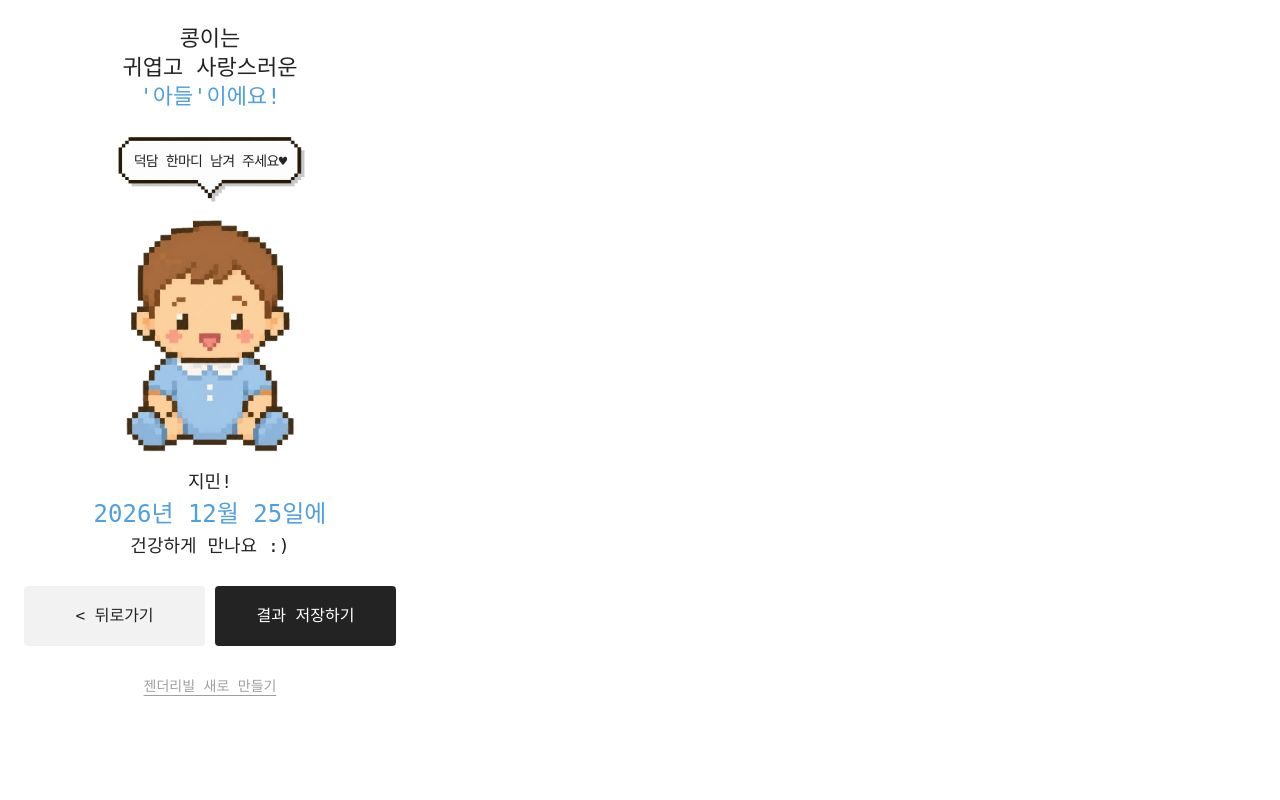
Scenario: ResultReveal › 안내 뷰에서 덕담 남기기 클릭 시 작성 뷰로 전환된다
Click the button with aria-label "덕담 남기기" at (210, 172), box [112, 135, 308, 208]
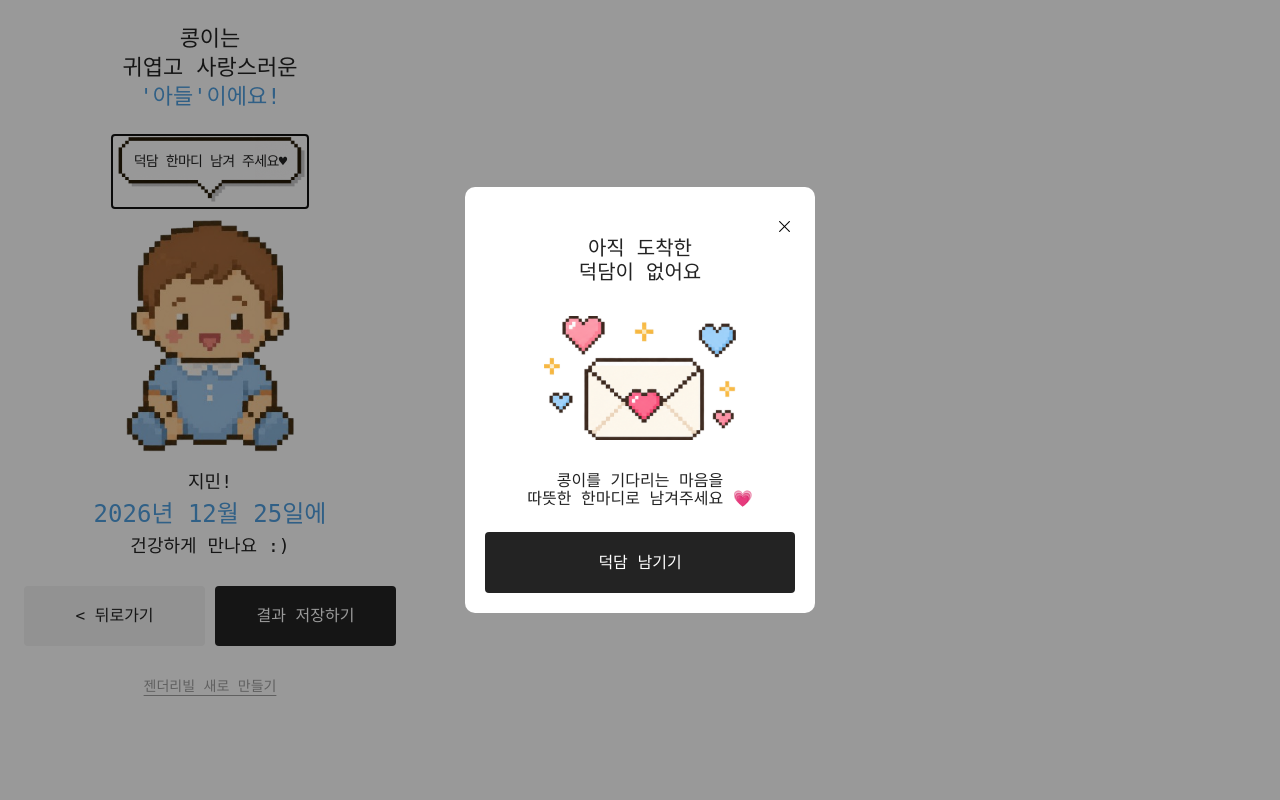
Click the button "덕담 남기기" at (640, 562), box [485, 532, 795, 593]
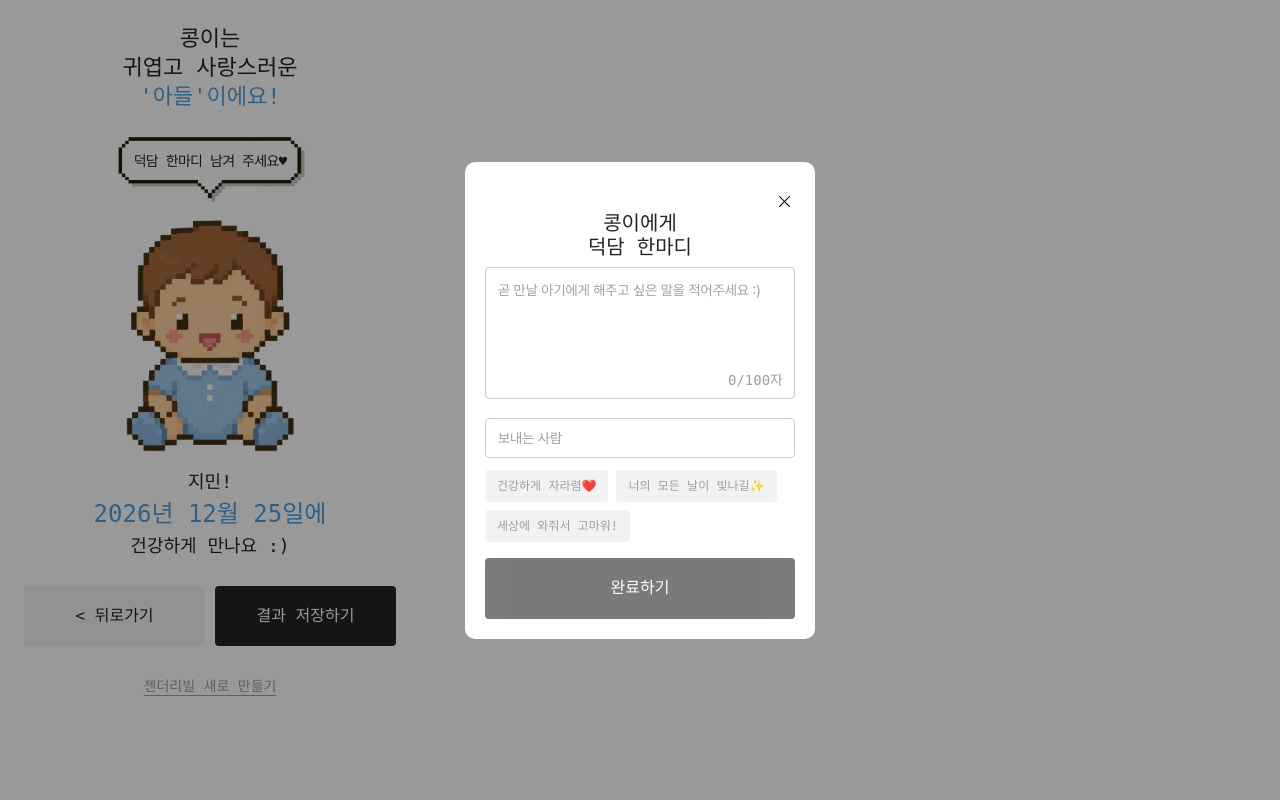
Expected: the dialog named "덕담 작성" is shown, [465, 162, 815, 638]
